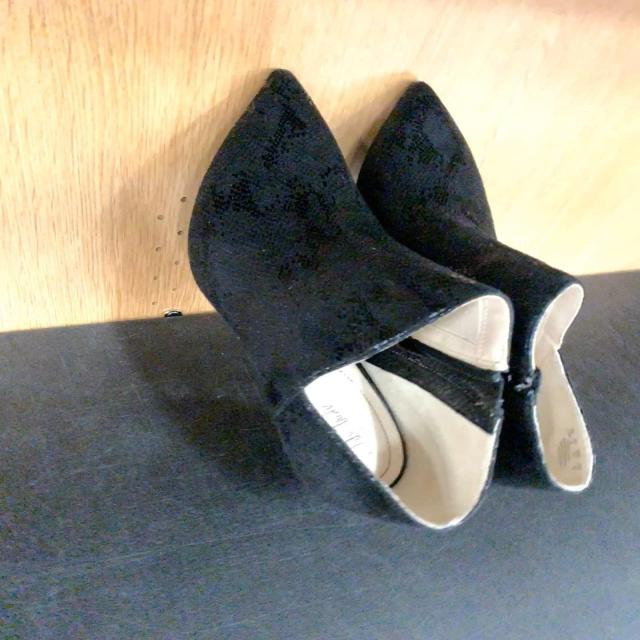shoe: (189, 67, 503, 538)
